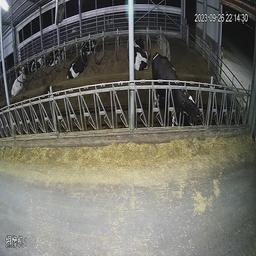cow: (149, 48, 201, 143), (65, 48, 93, 85), (48, 41, 63, 73), (134, 33, 147, 69), (12, 68, 29, 94), (32, 50, 47, 74)
